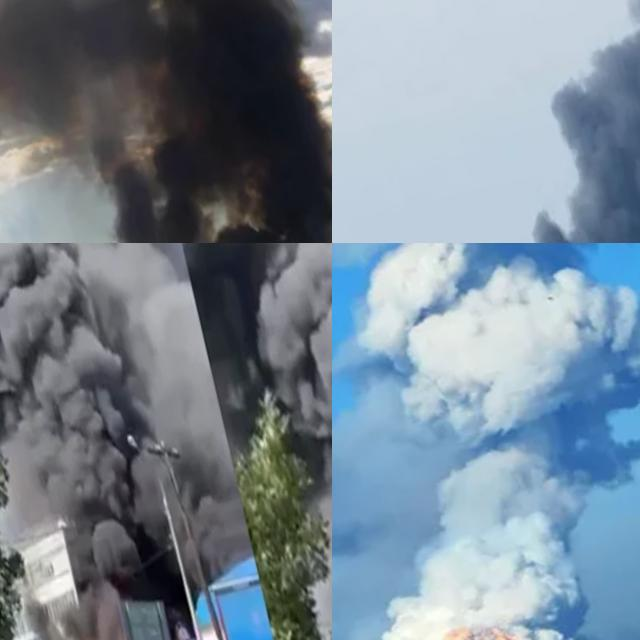smoke: (332, 243, 640, 640), (0, 243, 250, 622), (21, 0, 332, 243), (157, 243, 332, 640), (397, 0, 640, 243)
